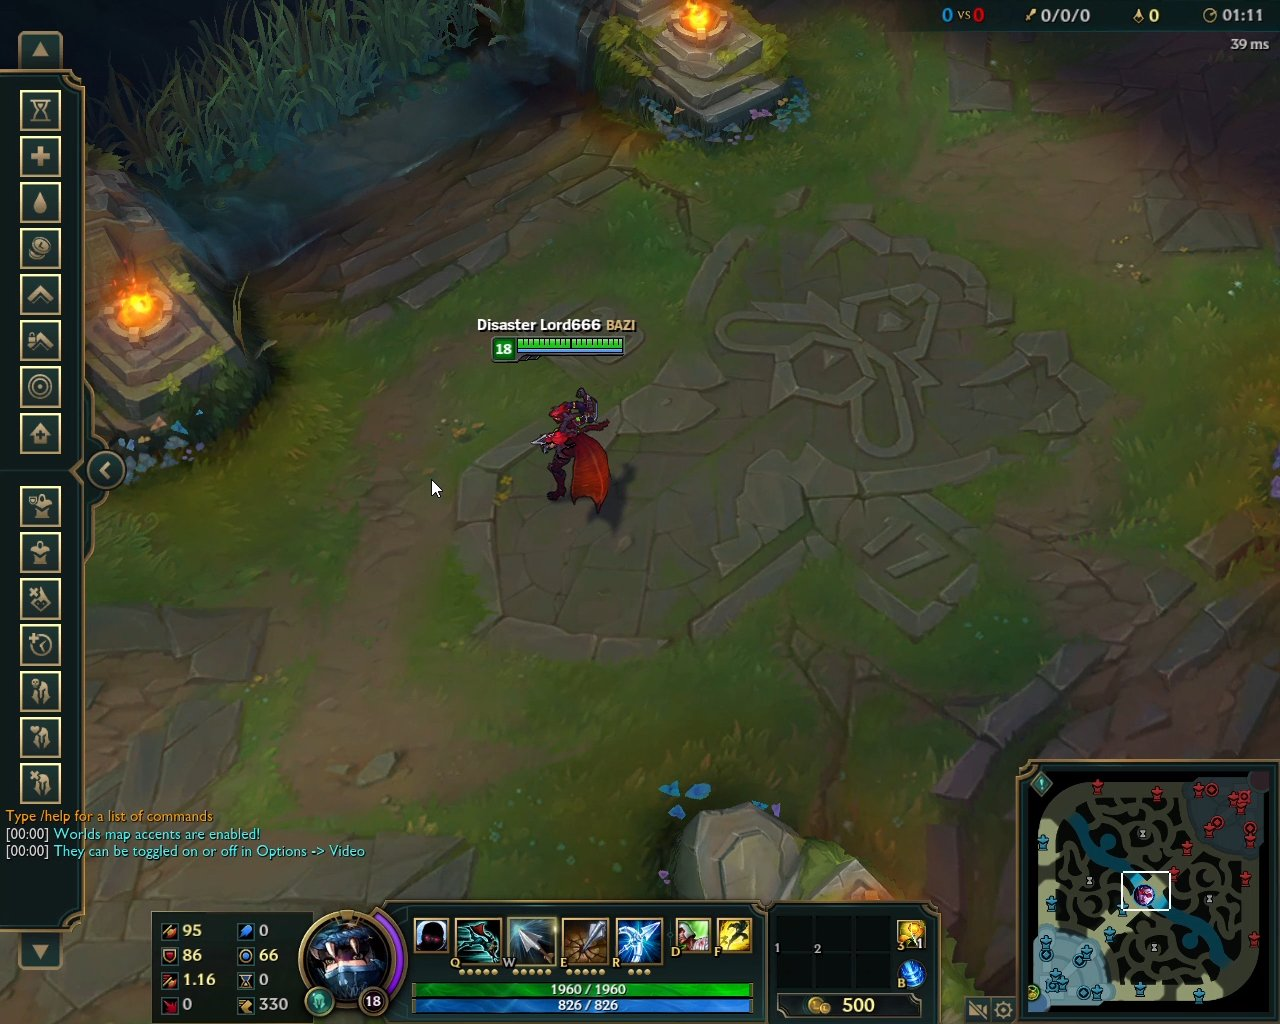Vayne: (529, 379, 616, 521)
